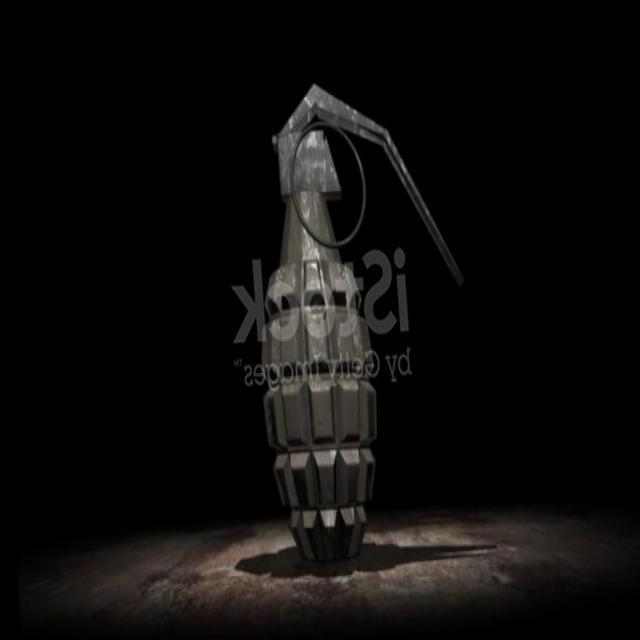grenade: (239, 66, 478, 566)
